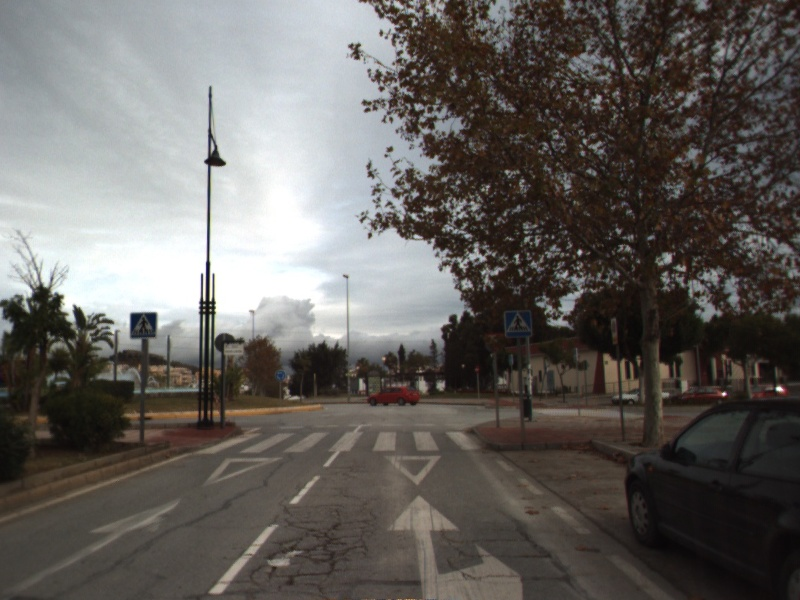STRAIGHT: (1, 494, 185, 599)
STRAIGHT_RIGHT: (383, 491, 528, 600)
